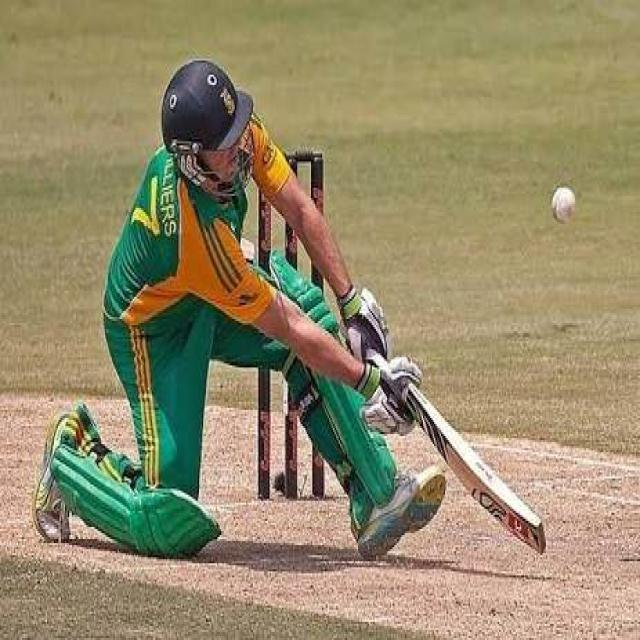ball: (556, 187, 574, 222)
stump: (258, 369, 327, 501), (256, 181, 326, 293)
